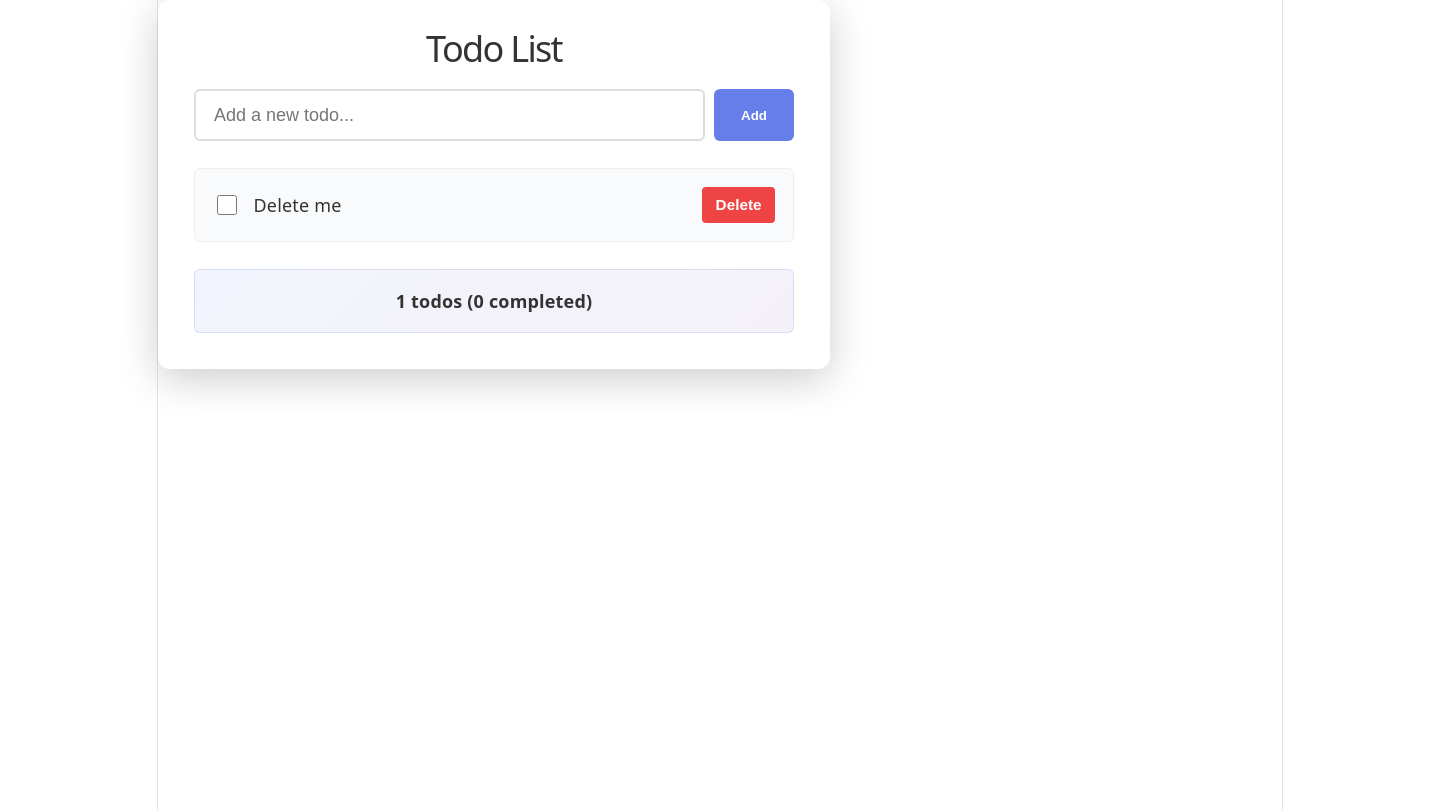
Test: TodoList Component › Deleting todos › deletes a todo
The width and height of the screenshot is (1440, 810).
Click the button with test id "delete-button": (739, 205) [702,187,775,223]
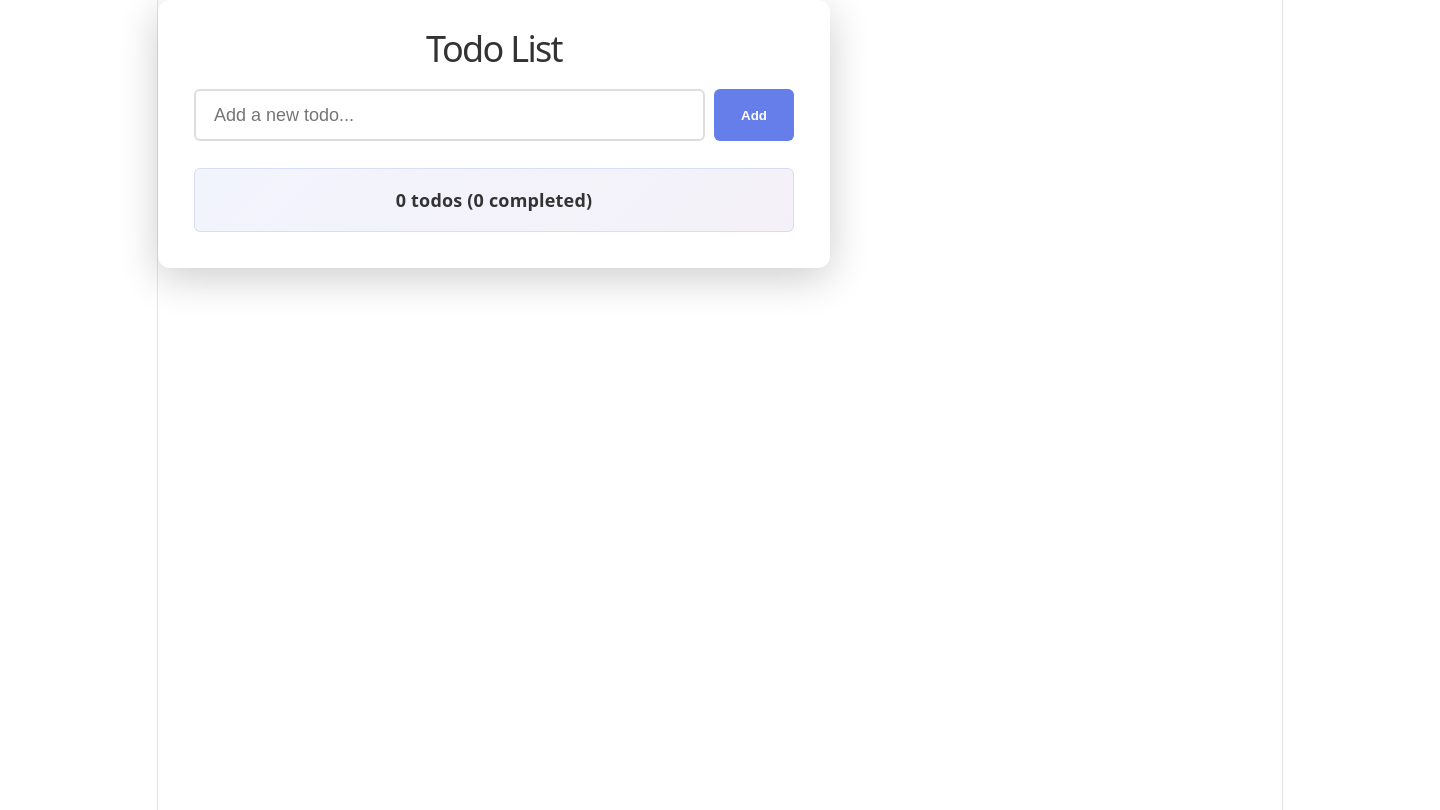
expect the text "Delete me" is gone: met
